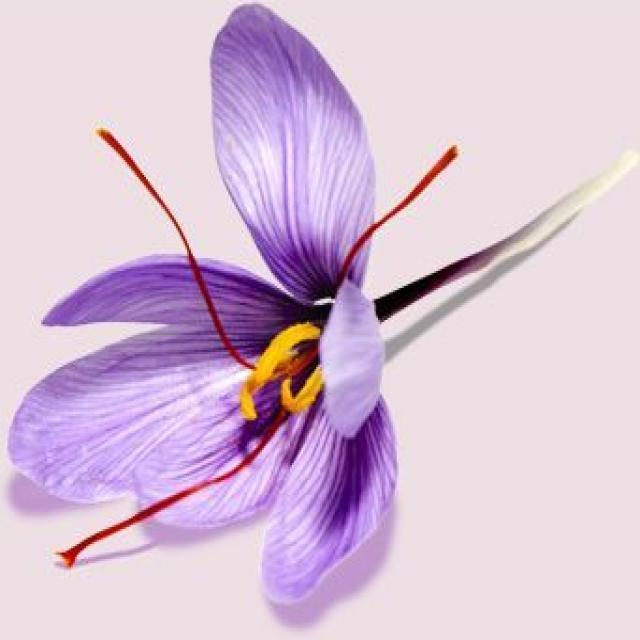Flower: (10, 5, 403, 619)
stigma: (96, 124, 318, 394), (54, 409, 313, 574), (328, 135, 465, 343)
